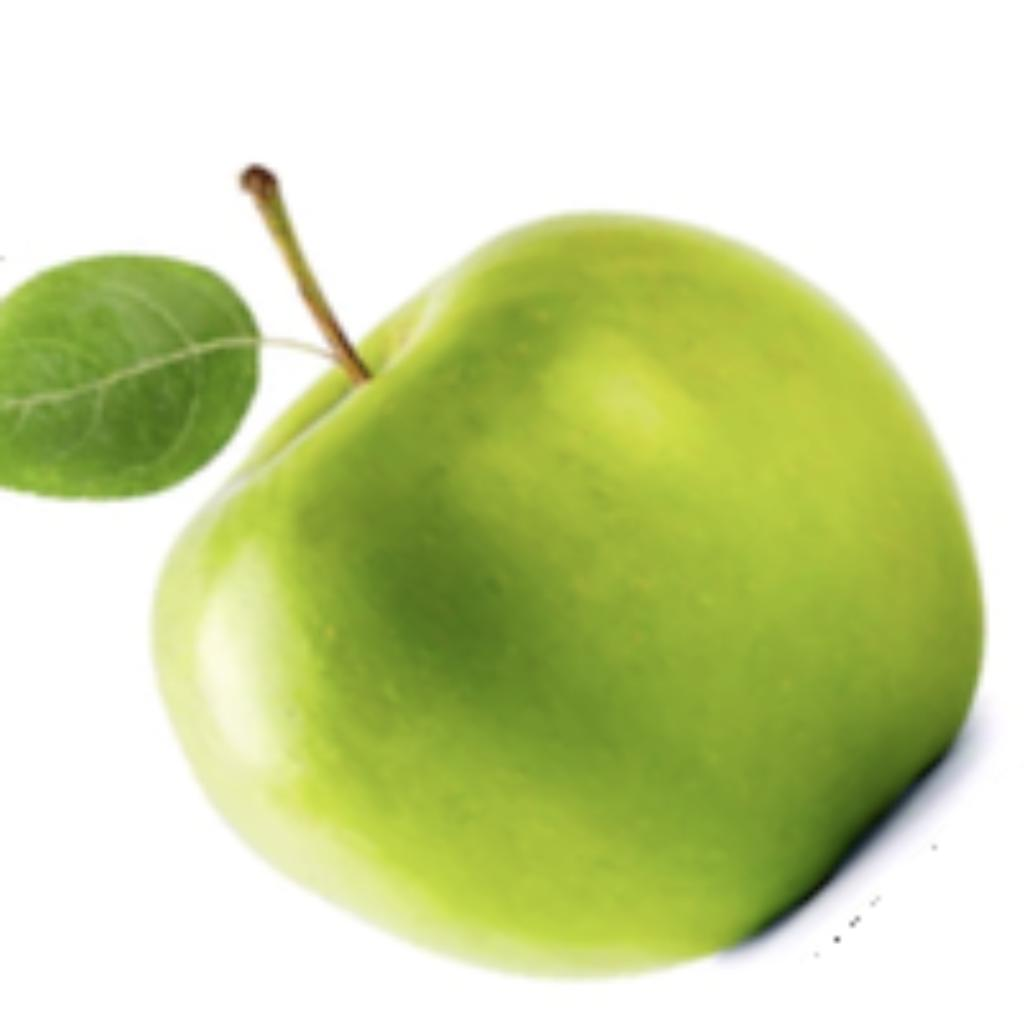apple: (0, 159, 998, 983)
